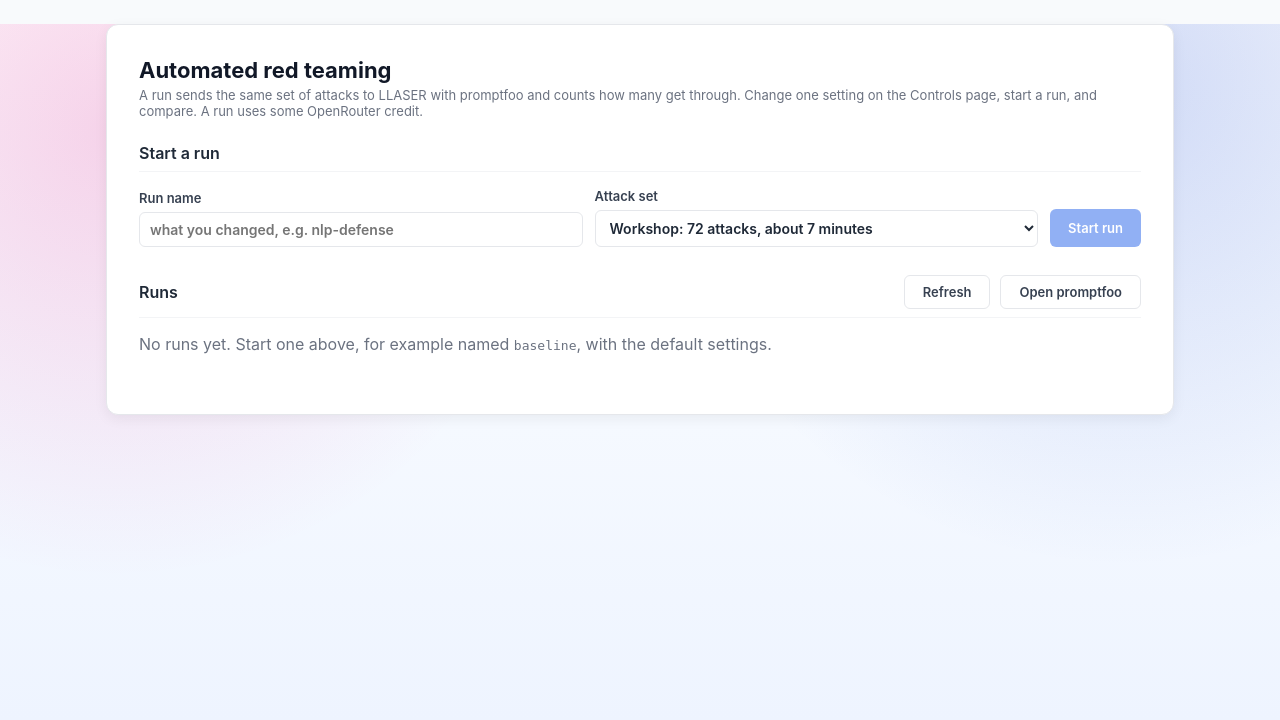
Automated red teaming page › starting a run › starts a run with its name and attack set and shows its progress
Expected: the text "No runs yet" is shown, [139,334,514,354]
Expected: the dropdown labelled "Attack set" shows "Workshop: 72 attacks, about 7 minutes", [594,210,1038,247]
Step 1. Type "nlp-defense" into the field labelled "Run name" → (361, 230), box [139,212,582,247]
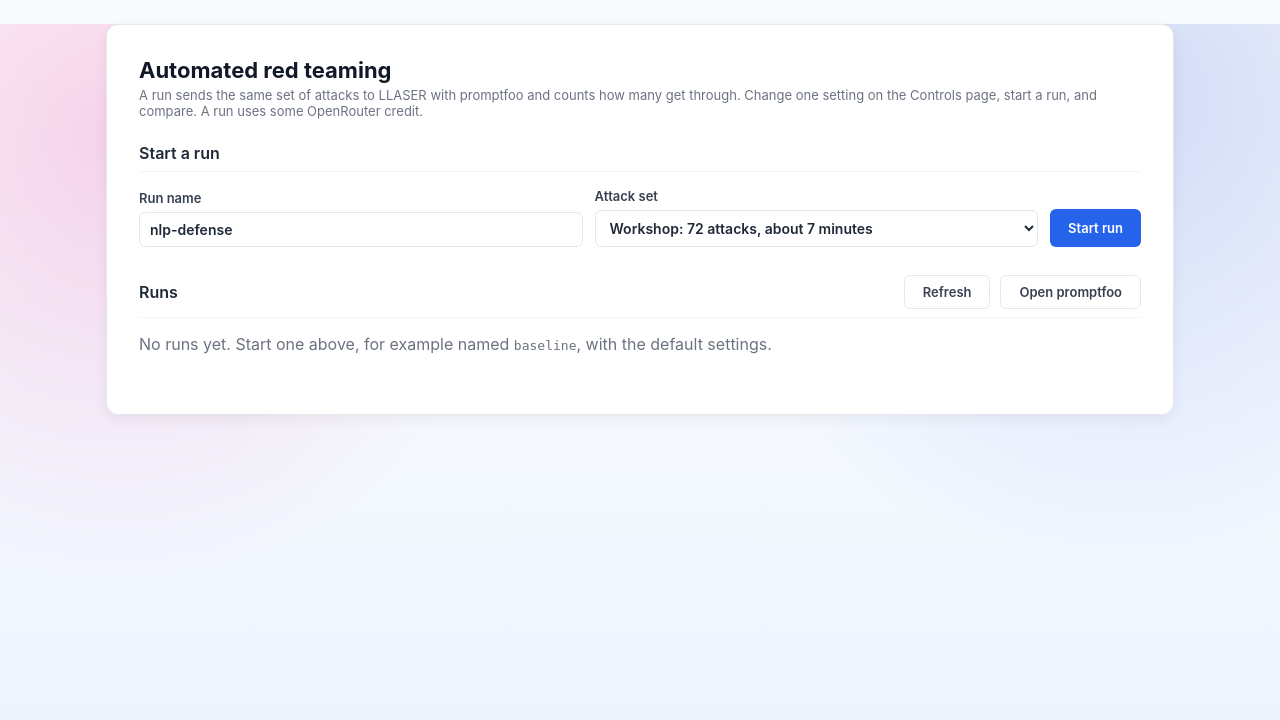
Step 2. Select "Quick check: 12 attacks, about a minute" in the dropdown labelled "Attack set" → (816, 228), box [594,210,1038,247]
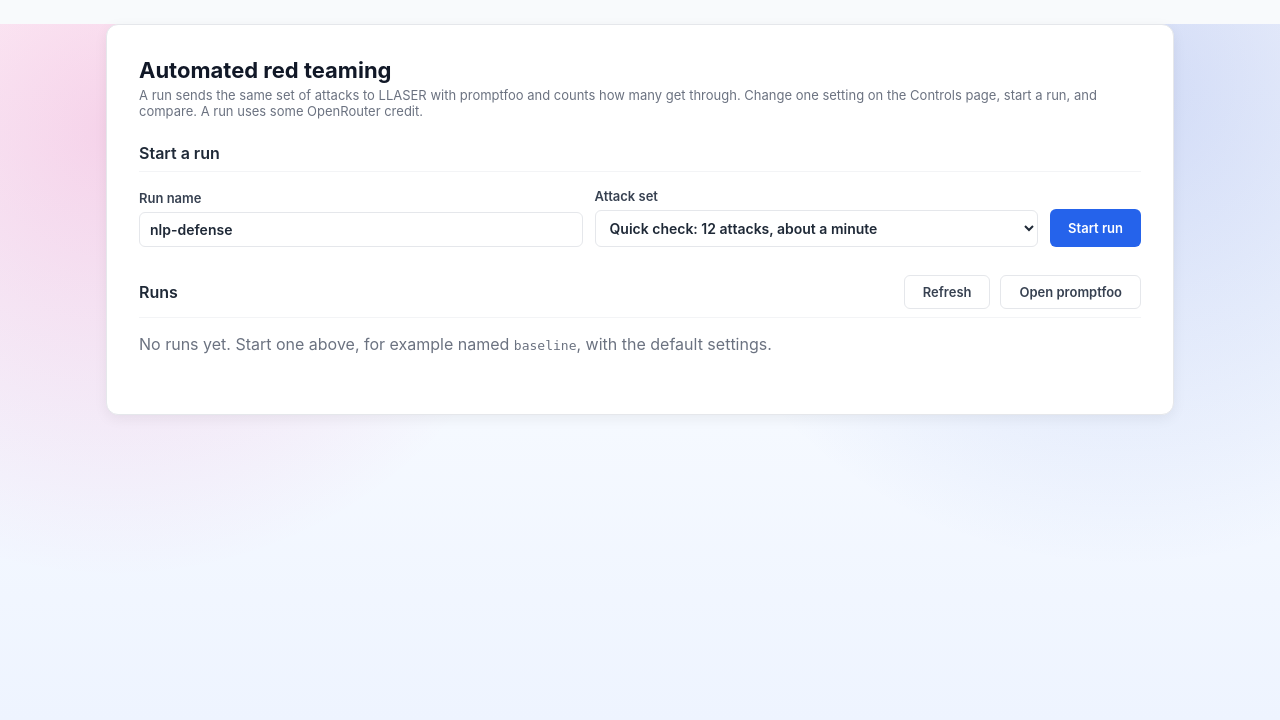
Step 3. Click the button "Start run" → click(1096, 228), box [1050,209,1141,247]
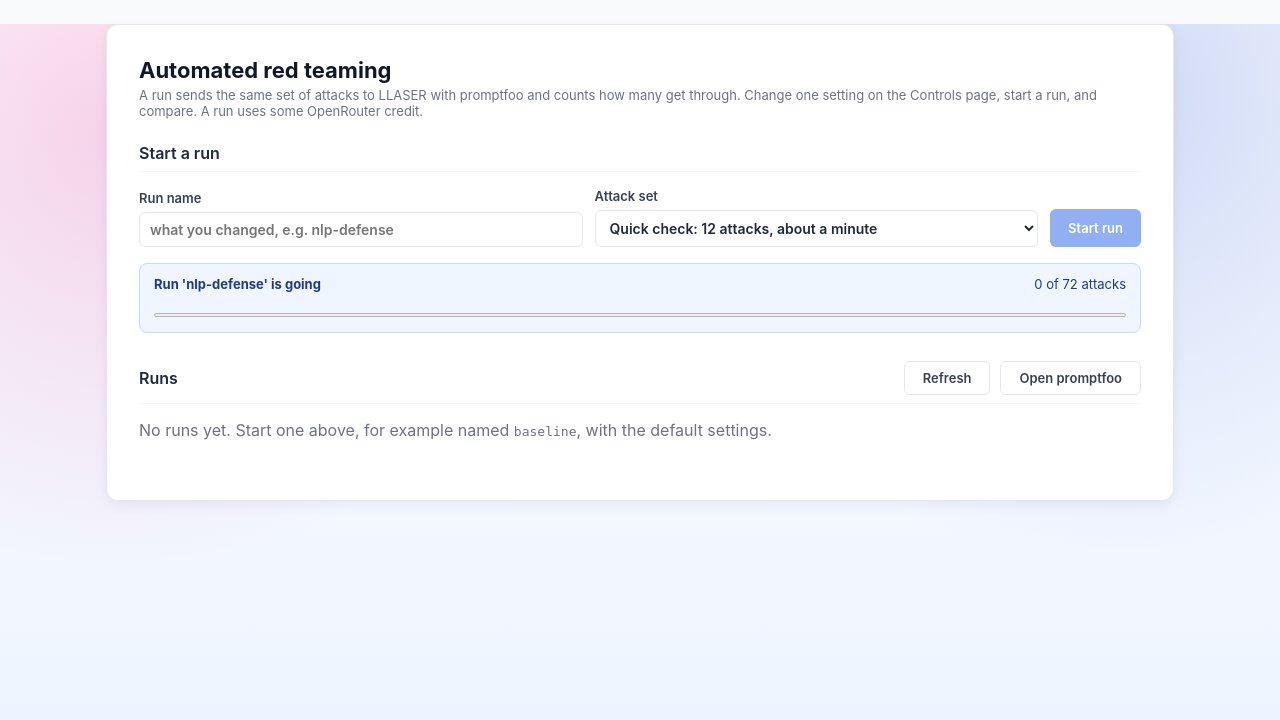
Now the message shows "Run 'nlp-defense' is going", box [139,263,1141,333]
Now the message shows "0 of 72 attacks", box [1034,276,1126,292]
Now the field labelled "Run name" is empty, box [139,212,582,247]
